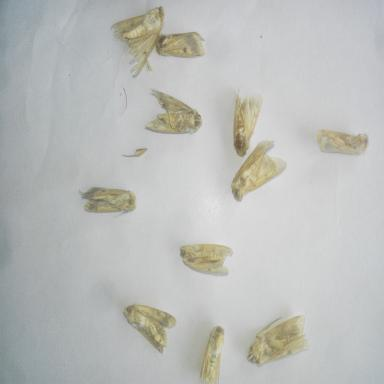abw: (107, 2, 168, 81), (229, 132, 291, 206), (245, 307, 313, 371), (120, 299, 180, 360), (142, 84, 206, 138), (176, 234, 234, 286), (228, 88, 268, 162), (74, 178, 139, 220), (314, 124, 372, 162), (196, 320, 230, 383), (153, 28, 208, 62)
